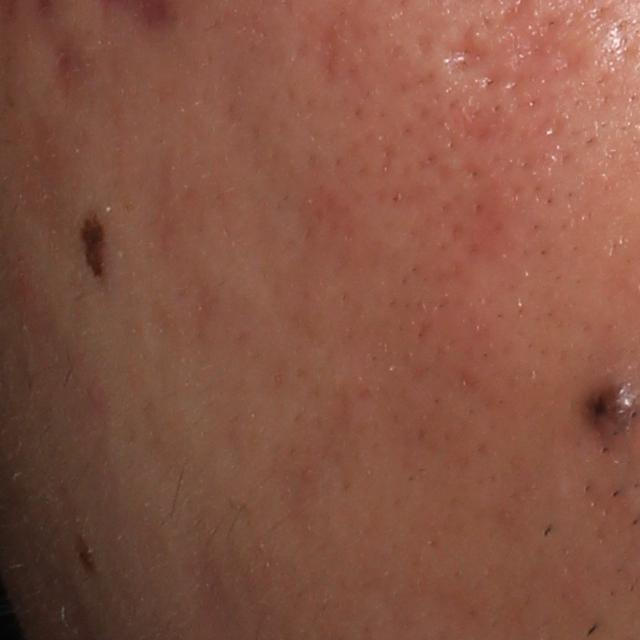atrophic_scar: (446, 18, 498, 73)
nevus: (79, 194, 116, 294), (70, 532, 103, 573)
